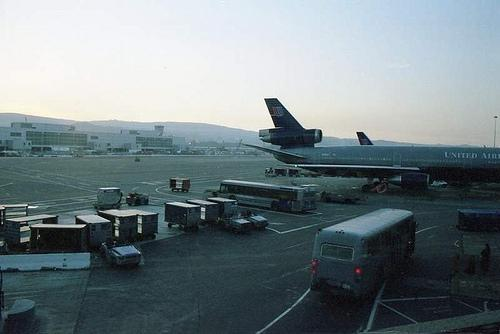bus: (304, 204, 420, 301), (219, 179, 318, 213)
truck: (100, 235, 141, 268), (457, 208, 500, 230), (232, 206, 271, 227), (217, 212, 252, 235), (92, 186, 124, 210), (125, 193, 149, 206)
